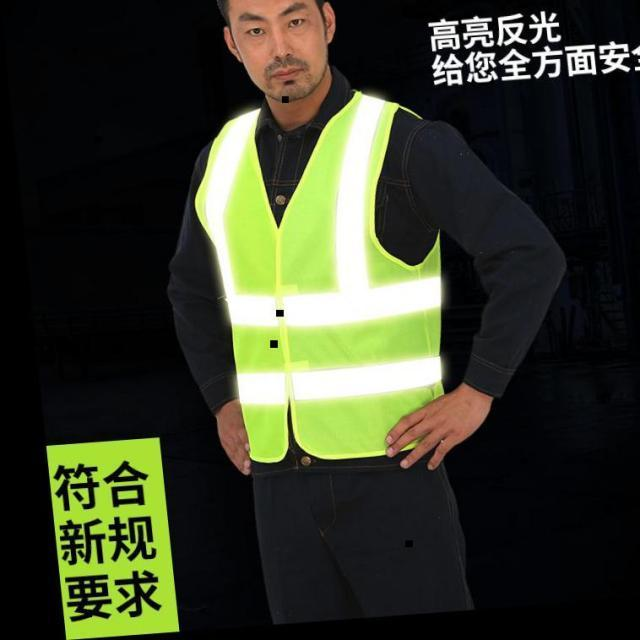safety_helmet: (184, 90, 452, 461)
